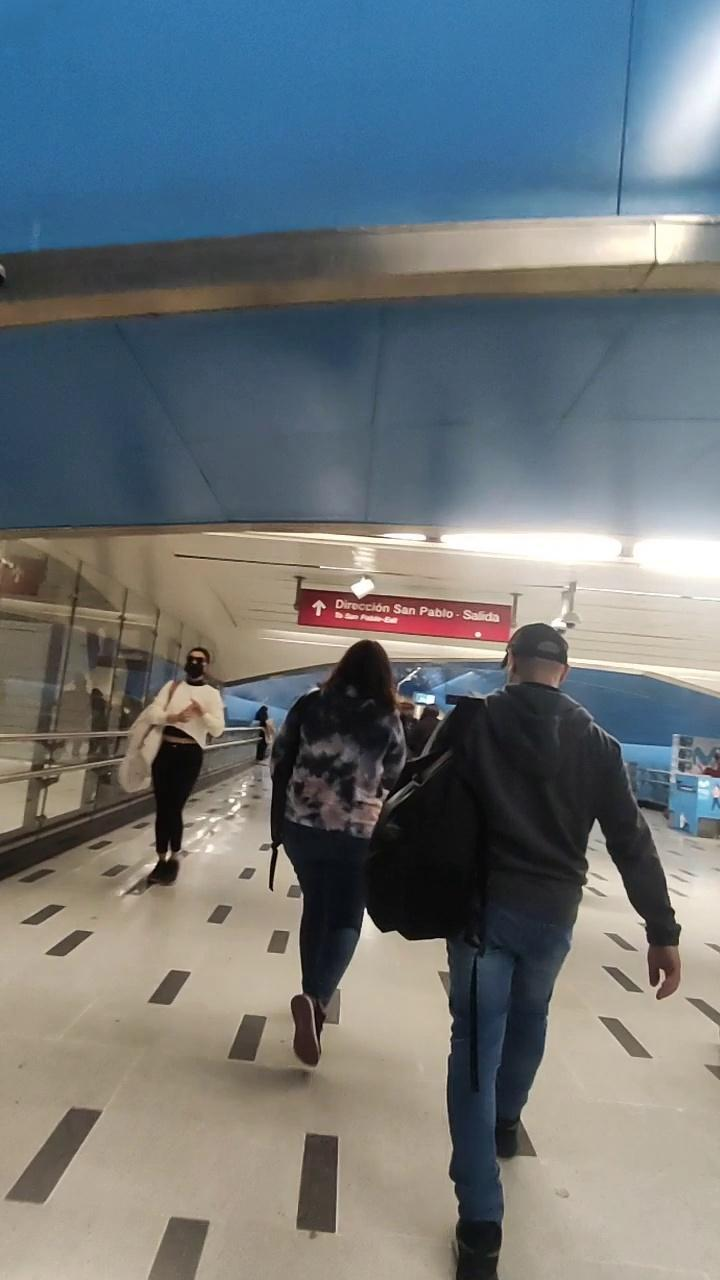up arrow: (308, 598, 330, 619)
